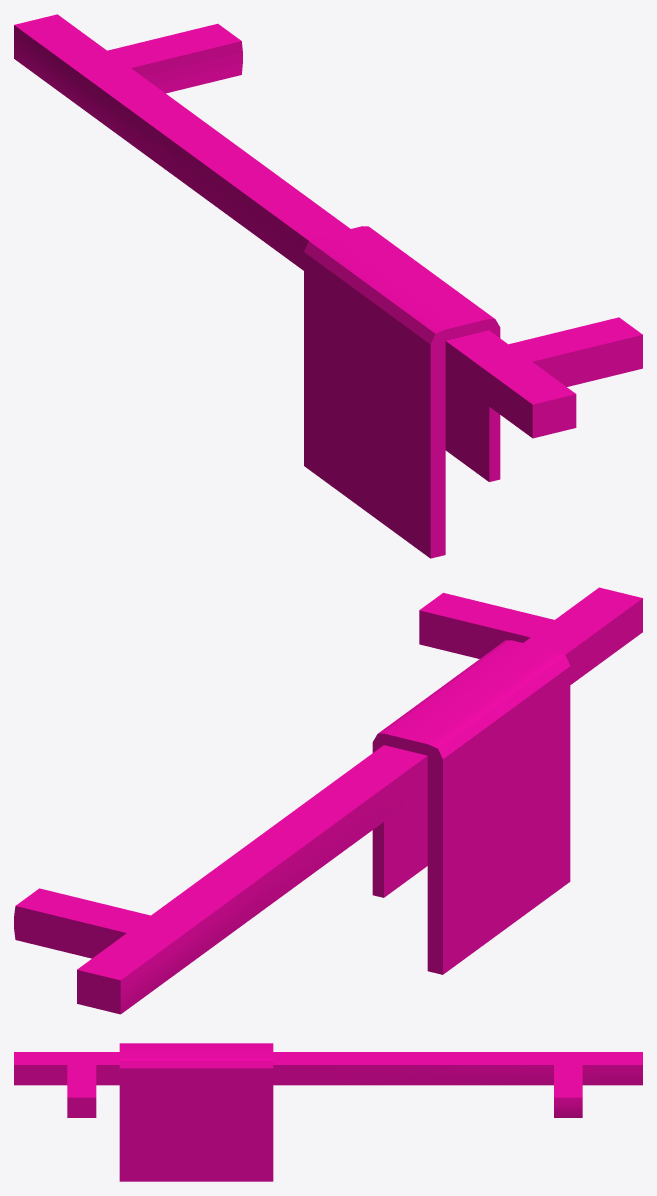
The model's file is towel.fbx.
3 renders of one model, top to bottom at view 1: azimuth 30°, elevation 25°; view 2: azimuth 150°, elevation 25°; view 3: azimuth 270°, elevation 25°, orthographic. The views are drawn at different scales.
Visible parts, largest first — view 1: pCube3; view 2: pCube3; view 3: pCube3.
Boxes of the visible parts, x1,y1,x2,y2 form: pCube3: (14, 14, 642, 558); pCube3: (14, 587, 642, 1014); pCube3: (14, 1043, 642, 1181).
Size of the model in its own units: 0.8137 by 1.03 by 4.28.
